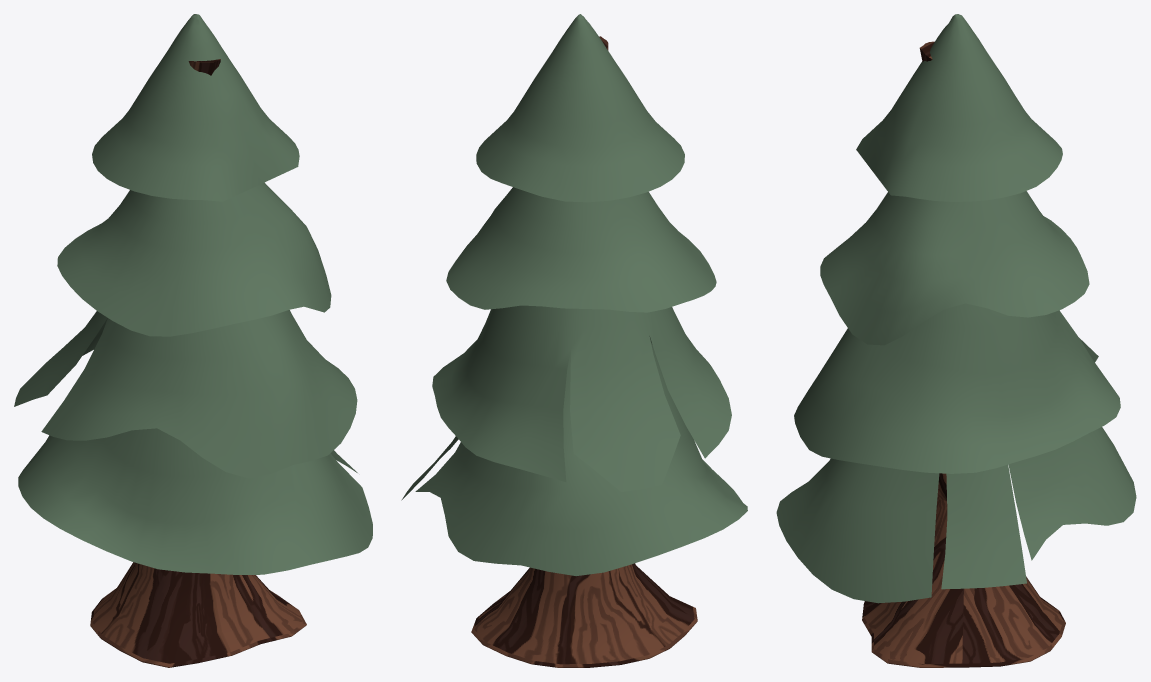
Rendered from Tree 3.fbx.
3 renders of one model, left to right at view 1: azimuth 30°, elevation 25°; view 2: azimuth 150°, elevation 25°; view 3: azimuth 270°, elevation 25°, orthographic.
Visible parts, largest first — view 1: Pines_4; view 2: Pines_4; view 3: Pines_4.
Boxes of the visible parts, x1,y1,x2,y2 form: Pines_4: (14,14,372,667); Pines_4: (401,14,747,667); Pines_4: (776,14,1136,667).
Size of the model in its own units: 9.44 by 17.58 by 9.36.
